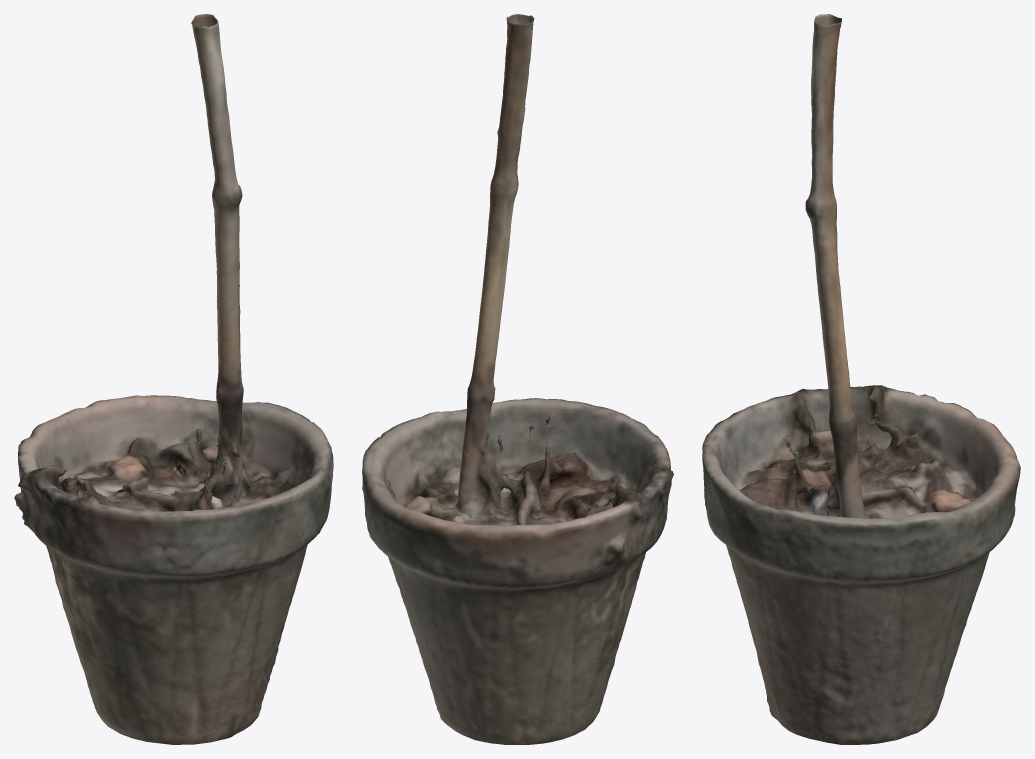
Rendered from PotWithDeadPlant1.fbx.
3 renders of one model, left to right at view 1: azimuth 30°, elevation 25°; view 2: azimuth 150°, elevation 25°; view 3: azimuth 270°, elevation 25°, orthographic. The views are drawn at different scales.
Visible parts, largest first — view 1: 3DModel_Custom.002; view 2: 3DModel_Custom.002; view 3: 3DModel_Custom.002.
Part boxes in pixels (x1=…): 3DModel_Custom.002: x1=14, y1=14, x2=333, y2=744; 3DModel_Custom.002: x1=362, y1=14, x2=673, y2=744; 3DModel_Custom.002: x1=702, y1=14, x2=1020, y2=744.
Size of the model in its own units: 34.87 by 82.78 by 34.19.
1 material, 1 textured.
